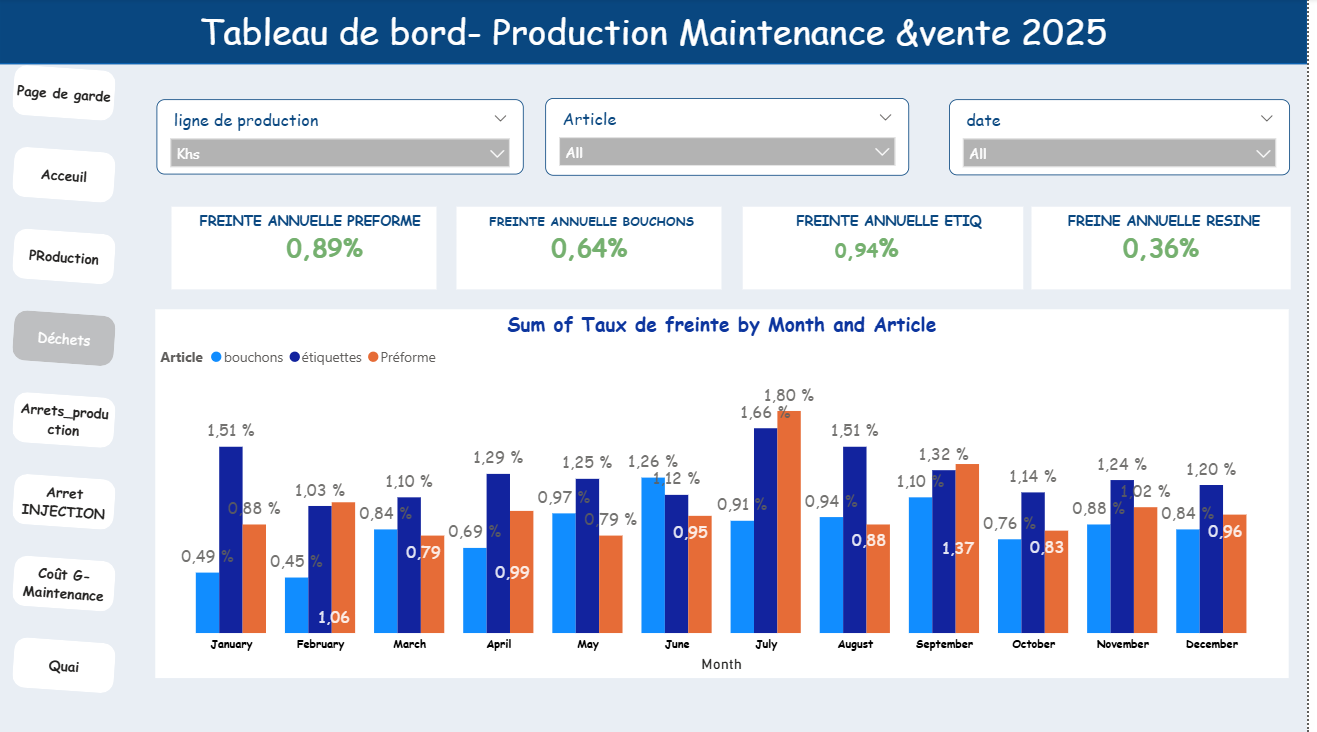

What the dashboard file says about the page in this screenshot:
{"tool":"powerbi","page":{"name":"Déchets","canvas":[1280,720],"ordinal":3},"visuals":[{"type":"textbox","box":[0,80,120,51.2],"z":0},{"type":"textbox","box":[37.4,49.5,131.5,30.2],"z":1000},{"type":"textbox","box":[102.5,100.1,102.5,30.2],"z":2000},{"type":"clusteredColumnChart","fields":{"Series":["S_K_25 - Fait déchets_P (2).Article"],"Category":["S_K_25 - Fait déchets_P (2).date.Variation.Date Hierarchy.Month"],"Y":["Sum(S_K_25 - Fait déchets_P (2).Taux de freinte )"]},"box":[153.1,304.9,1108.6,360.5],"z":3000},{"type":"slicer","fields":{"Values":["S_K_25 - Fait déchets_P (2).Article"]},"box":[534.4,97.8,355.8,75.8],"z":4000},{"type":"slicer","fields":{"Values":["S_K_25 - Fait déchets_P (2).date"]},"box":[929.4,99,333.8,74.6],"z":5000},{"type":"slicer","fields":{"Values":["S_K_25 - Fait déchets_P (2).ligne de production "]},"box":[154.1,99,359.5,73.4],"z":6000},{"type":"textbox","box":[168.8,204.8,259.4,80.7],"z":7000},{"type":"textbox","box":[448.1,204.8,259.4,80.7],"z":8000},{"type":"textbox","box":[727.4,204.8,274.3,80.7],"z":9000},{"type":"textbox","box":[1010.4,204.8,253.2,80.7],"z":10000},{"type":"pageNavigator","box":[0,64.3,127.4,621.4],"z":11000},{"type":"shape","box":[0,0,1280.3,64.8],"z":12000}]}

Visuals, with their boxes on the page's 1280x720 design canvas (x1, y1, x2, y2). These are canvas units, not pixel positions in the 1317x732 screenshot, which may show the page scaled, cropped or inside an application window:
textbox: detection(0, 80, 120, 131)
textbox: detection(37, 50, 169, 80)
textbox: detection(102, 100, 205, 130)
clusteredColumnChart - S_K_25 - Fait déchets_P (2).Article x S_K_25 - Fait déchets_P (2).date.Variation.Date Hierarchy.Month: detection(153, 305, 1262, 665)
slicer - S_K_25 - Fait déchets_P (2).Article: detection(534, 98, 890, 174)
slicer - S_K_25 - Fait déchets_P (2).date: detection(929, 99, 1263, 174)
slicer - S_K_25 - Fait déchets_P (2).ligne de production : detection(154, 99, 514, 172)
textbox: detection(169, 205, 428, 286)
textbox: detection(448, 205, 708, 286)
textbox: detection(727, 205, 1002, 286)
textbox: detection(1010, 205, 1264, 286)
pageNavigator: detection(0, 64, 127, 686)
shape: detection(0, 0, 1280, 65)
